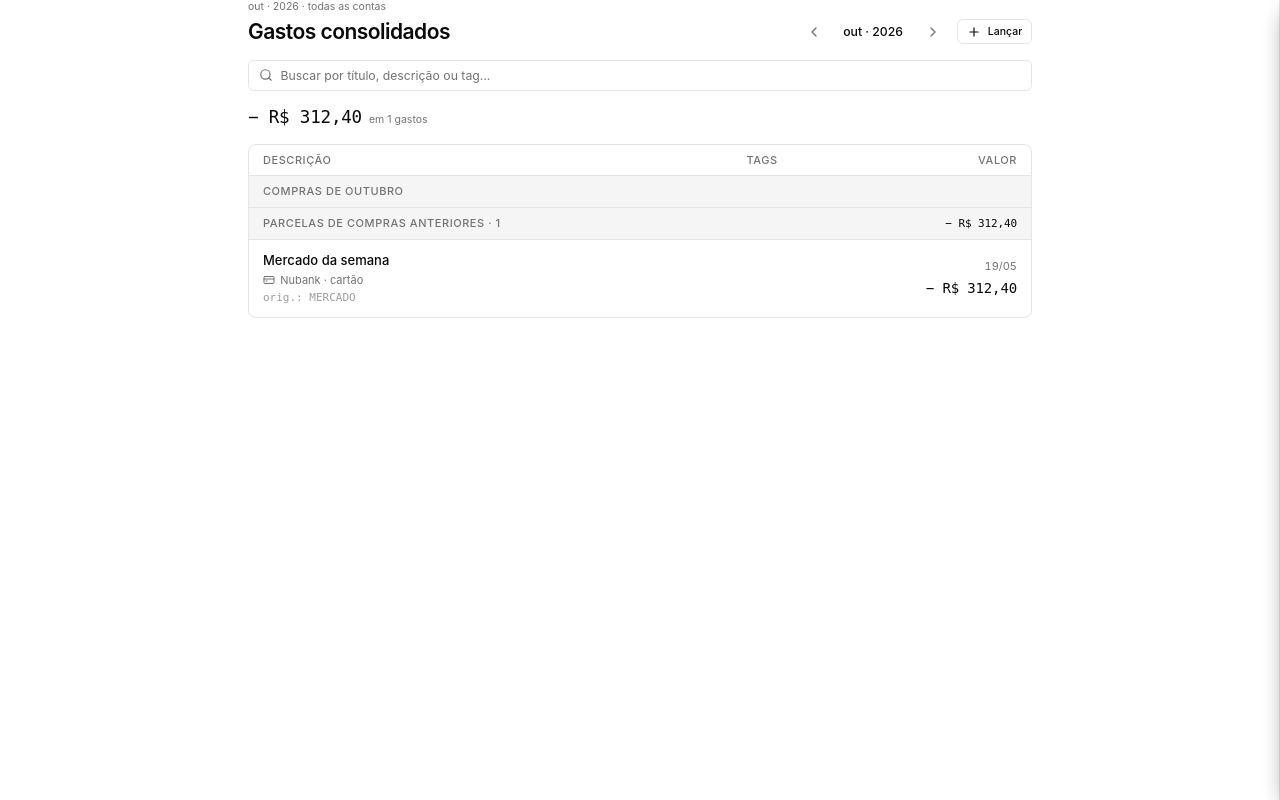
Test: <GastosPage /> › opens the detail sheet in consolidated mode (no accept/reject)
Click the button with test id "gasto-row-g1" at (326, 260), box [249, 240, 1031, 317]
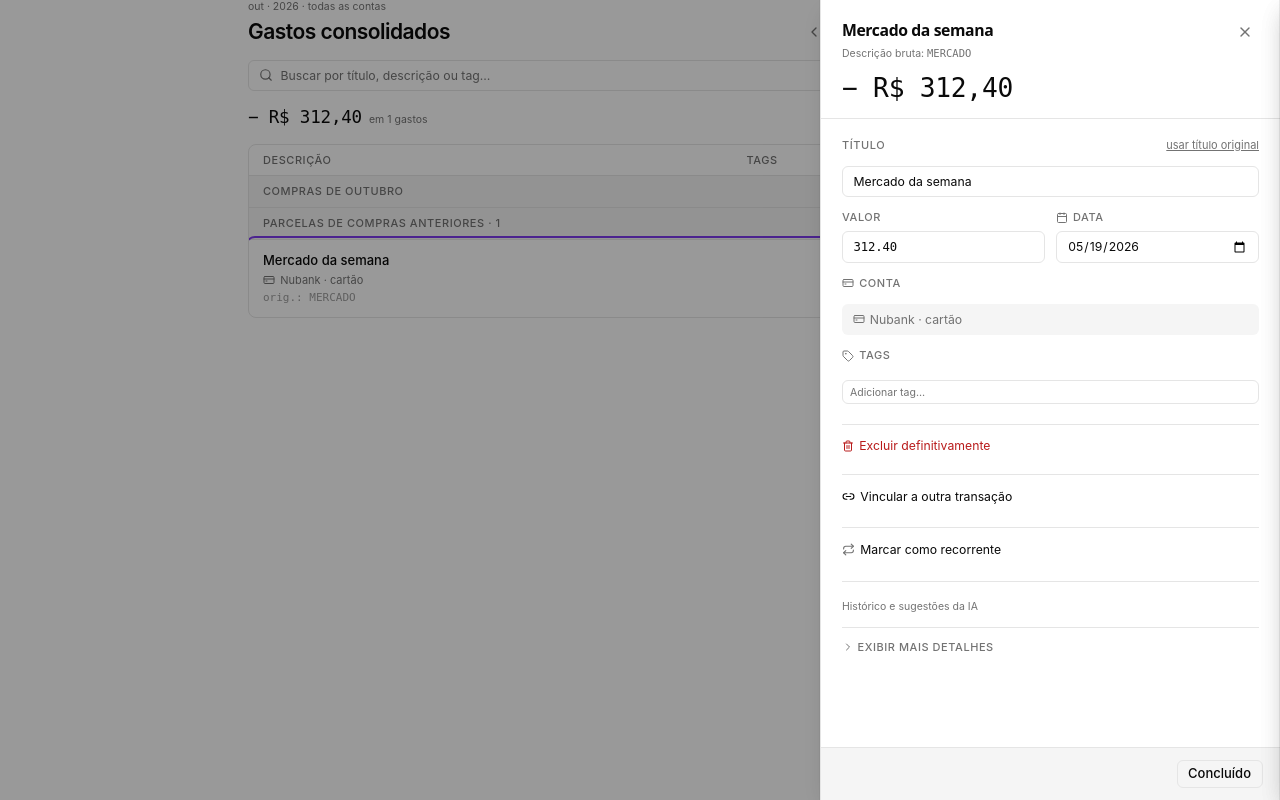
Check: the button with test id "sheet-done-g1" is shown, box [1176, 760, 1262, 788]
Check: the button with test id "sheet-remove-g1" is shown, box [842, 437, 990, 454]
